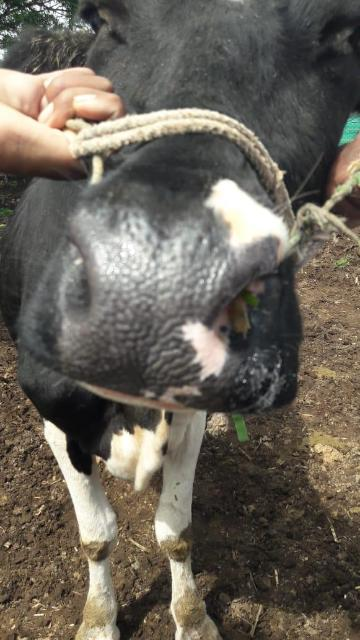Muzzle: (86, 219, 228, 401)
